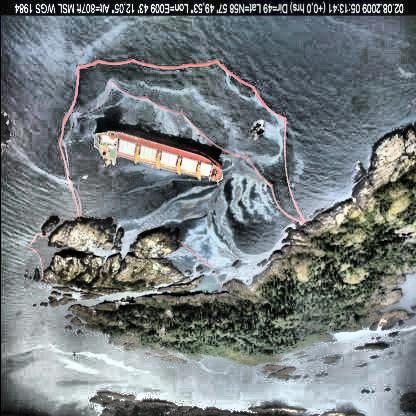sheen: (125, 157, 280, 288)
